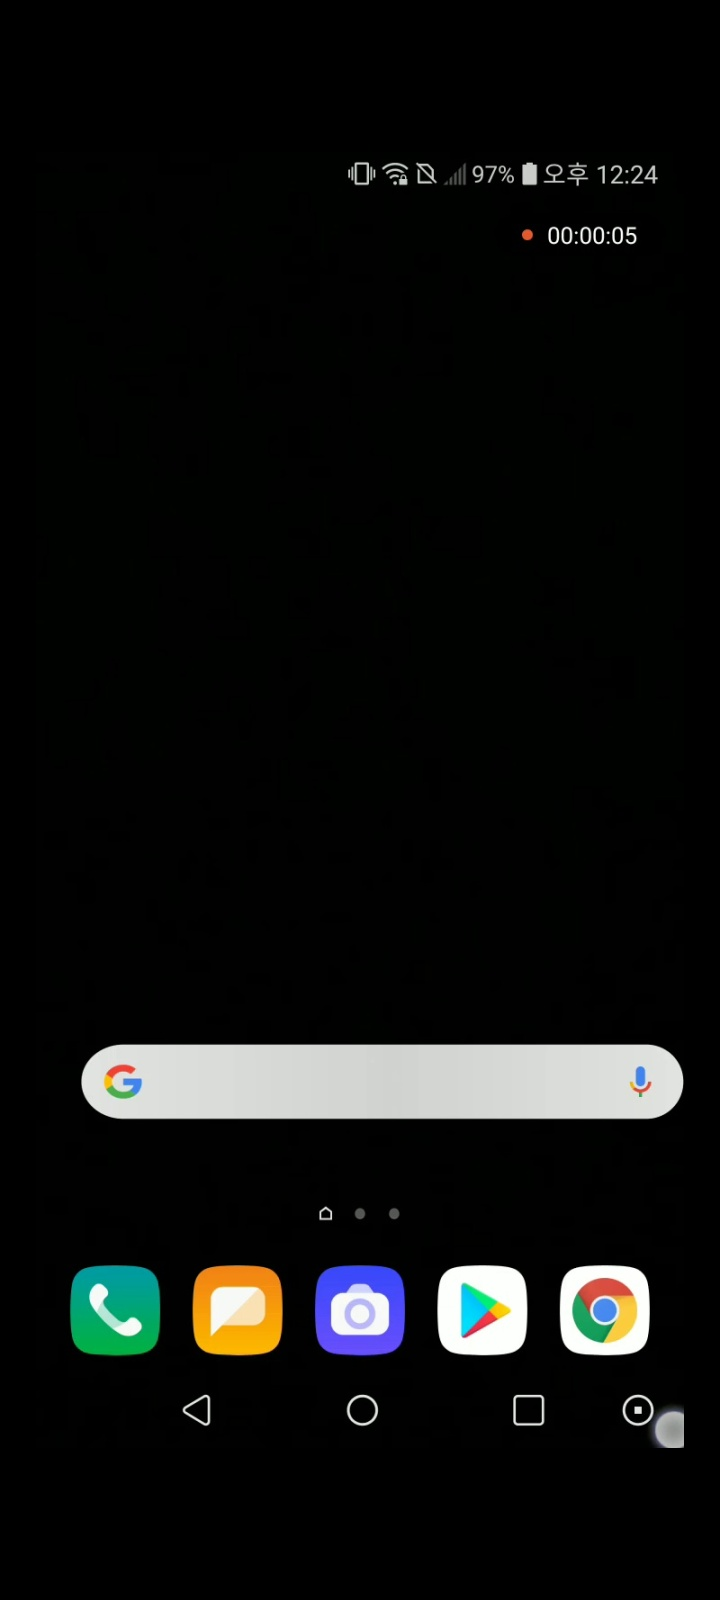Cursor: (649, 1405, 684, 1448)
